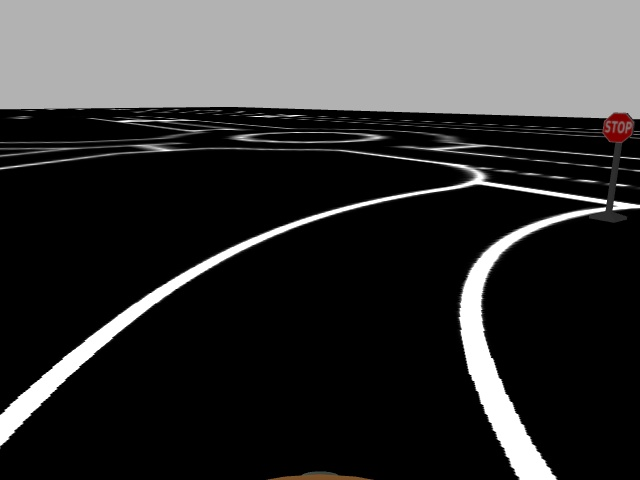stop: (602, 111, 635, 145)
